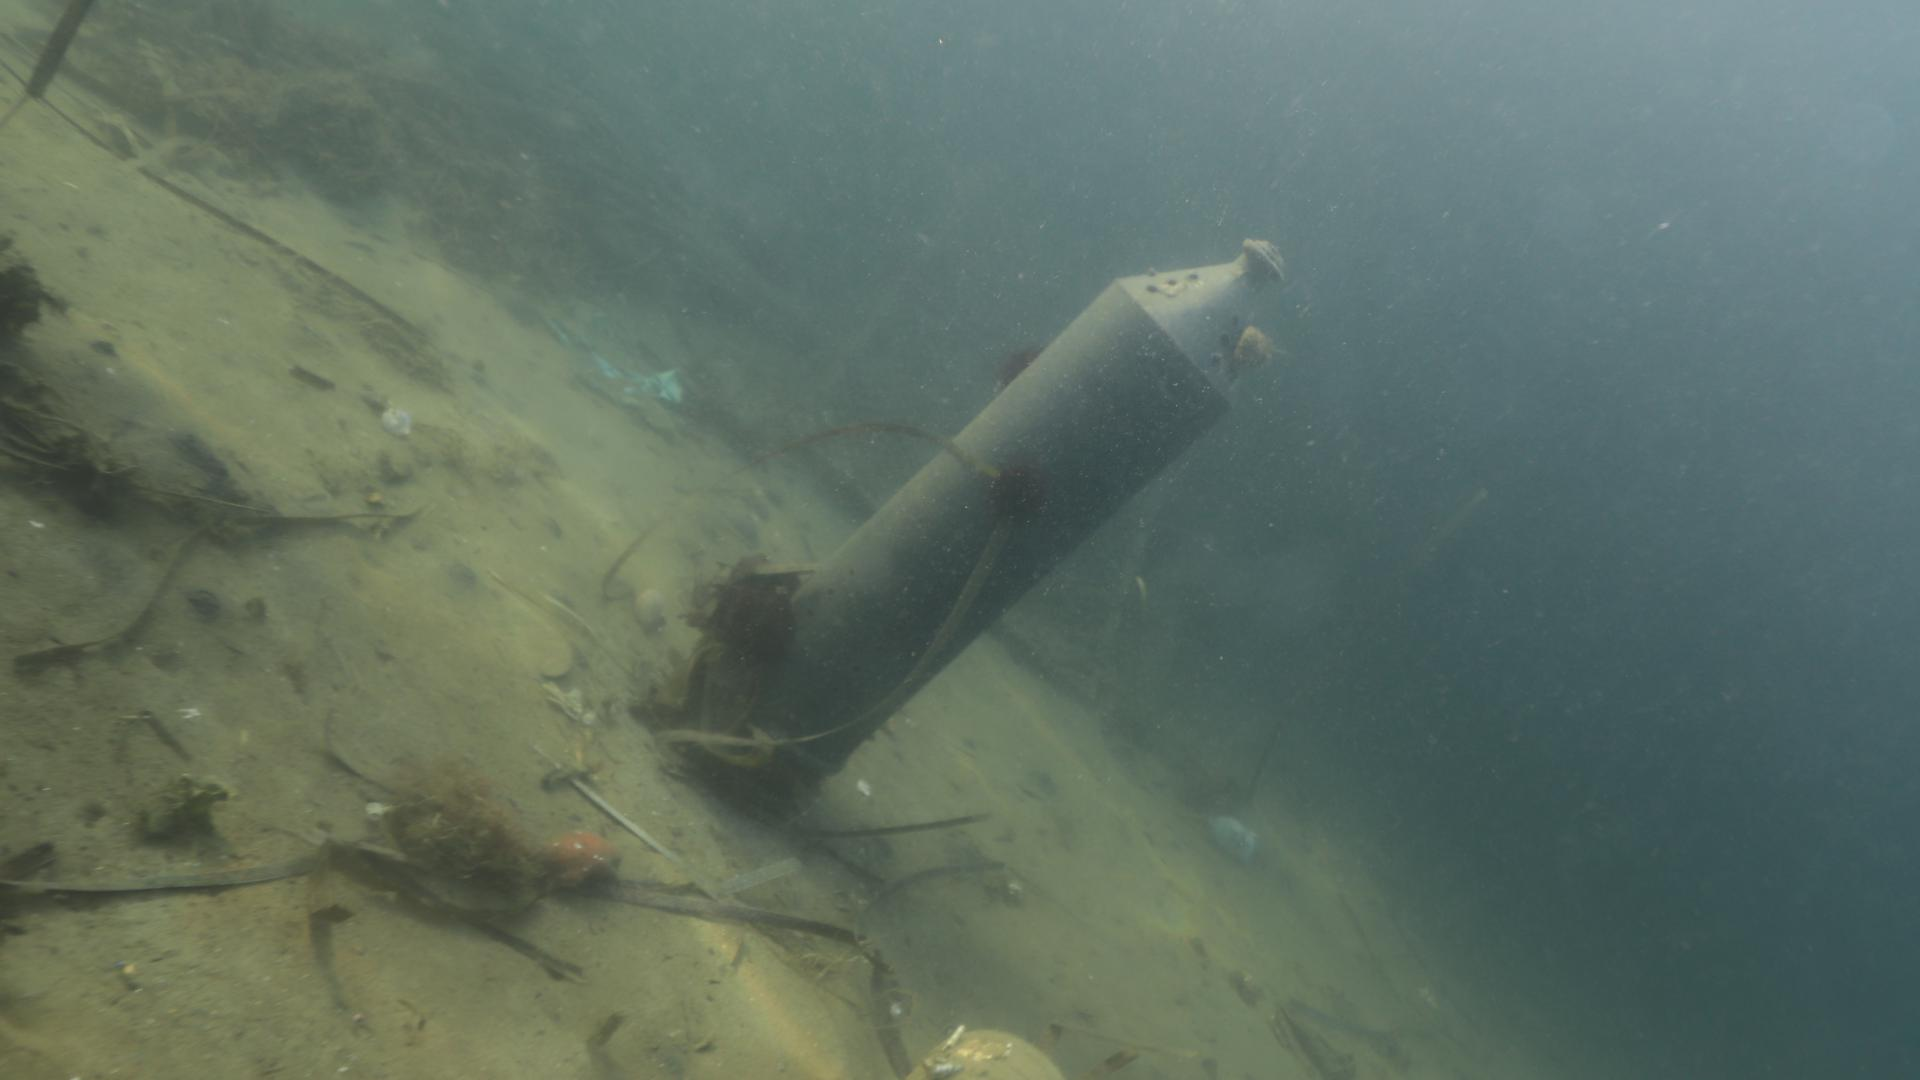eel fish trap: (662, 241, 1286, 818)
